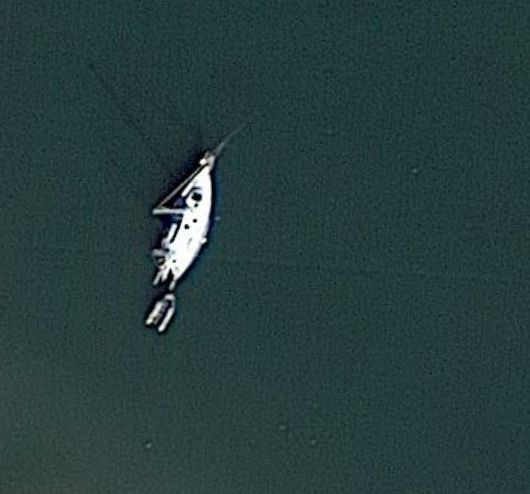boat: (144, 139, 220, 295), (142, 292, 182, 334)
